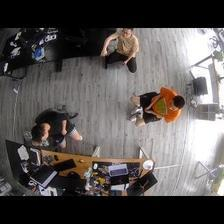normal: (28, 103, 84, 152), (128, 83, 186, 130), (101, 28, 141, 74)
